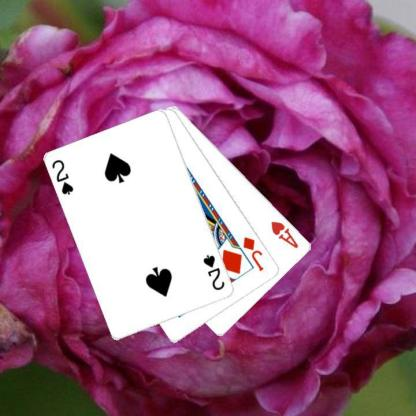2S: (200, 252, 226, 292), (50, 156, 75, 196)
AH: (268, 218, 300, 250)
JD: (240, 234, 265, 273)
